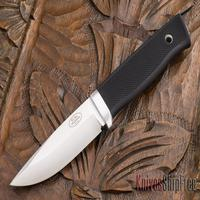knife: (9, 20, 189, 190)
